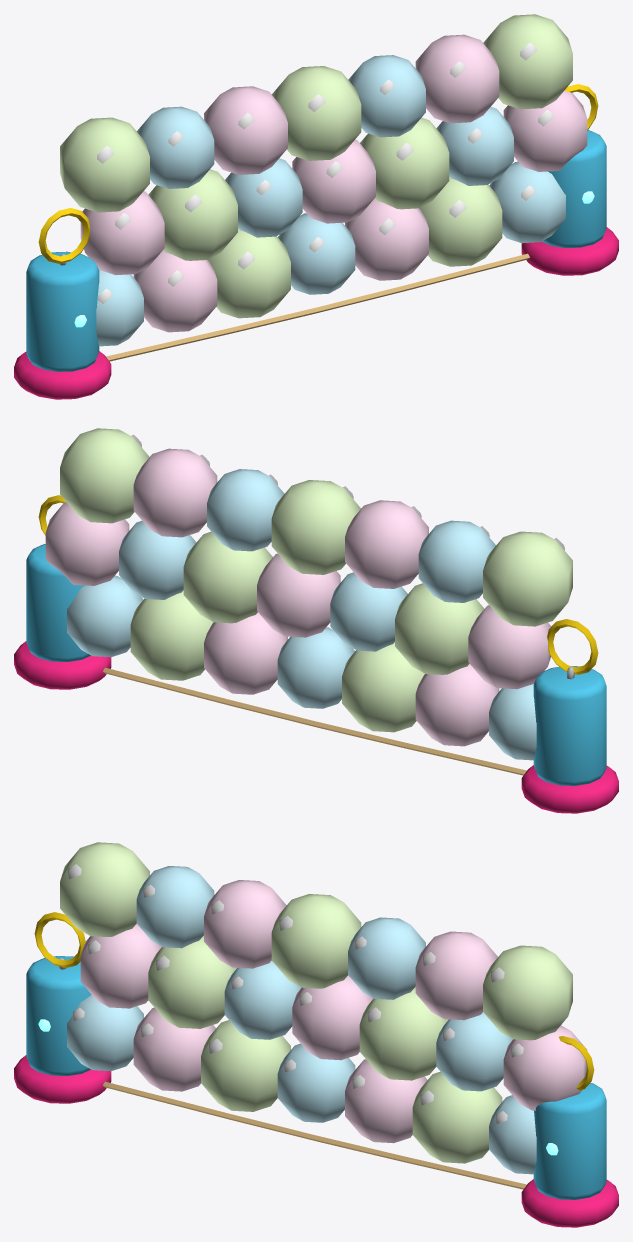
The model's file is Tutorial_BubbleBarrier.fbx.
The picture shows the model from 3 angles, top to bottom: view 1: azimuth 30°, elevation 25°; view 2: azimuth 150°, elevation 25°; view 3: azimuth 330°, elevation 25°; orthographic projection.
Parts seen in each view (by area): view 1: Static, Bubble_14, Bubble_20, Bubble_17, Bubble_19, Bubble_16, Bubble_11, Bubble_08, Bubble_05, Bubble_02, Bubble_01, Bubble_04 (+10 smaller); view 2: Static, Bubble_14, Bubble_20, Bubble_17, Bubble_19, Bubble_16, Bubble_11, Bubble_08, Bubble_05, Bubble_02, Bubble_01, Bubble_04 (+10 smaller); view 3: Static, Bubble_20, Bubble_14, Bubble_17, Bubble_11, Bubble_05, Bubble_02, Bubble_08, Bubble_16, Bubble_19, Bubble_15, Bubble_13 (+10 smaller).
Part boxes in pixels (left/top/right/bottom): Static: left=14, top=84, right=618, bottom=399; Bubble_14: left=60, top=117, right=149, bottom=212; Bubble_20: left=483, top=14, right=572, bottom=109; Bubble_17: left=272, top=66, right=361, bottom=160; Bubble_19: left=415, top=34, right=499, bottom=123; Bubble_16: left=204, top=86, right=287, bottom=174; Bubble_11: left=360, top=117, right=449, bottom=209; Bubble_08: left=148, top=169, right=237, bottom=260; Bubble_05: left=419, top=176, right=502, bottom=266; Bubble_02: left=208, top=228, right=290, bottom=318; Bubble_01: left=133, top=250, right=217, bottom=332; Bubble_04: left=345, top=198, right=428, bottom=280; Static: left=14, top=495, right=618, bottom=813; Bubble_14: left=483, top=531, right=572, bottom=626; Bubble_20: left=60, top=428, right=149, bottom=523; Bubble_17: left=271, top=480, right=360, bottom=574; Bubble_19: left=133, top=448, right=217, bottom=537; Bubble_16: left=345, top=500, right=428, bottom=588; Bubble_11: left=183, top=531, right=272, bottom=623; Bubble_08: left=395, top=583, right=484, bottom=674; Bubble_05: left=130, top=590, right=213, bottom=680; Bubble_02: left=342, top=642, right=424, bottom=732; Bubble_01: left=415, top=664, right=499, bottom=746; Bubble_04: left=204, top=612, right=287, bottom=694; Static: left=14, top=912, right=618, bottom=1227; Bubble_20: left=483, top=945, right=572, bottom=1040; Bubble_14: left=60, top=842, right=149, bottom=936; Bubble_17: left=271, top=894, right=361, bottom=988; Bubble_11: left=359, top=987, right=448, bottom=1080; Bubble_05: left=412, top=1071, right=502, bottom=1163; Bubble_02: left=201, top=1020, right=290, bottom=1111; Bubble_08: left=148, top=935, right=237, bottom=1028; Bubble_16: left=204, top=880, right=286, bottom=968; Bubble_19: left=415, top=931, right=497, bottom=1020; Bubble_15: left=136, top=866, right=214, bottom=948; Bubble_13: left=503, top=1025, right=587, bottom=1110.
Size of the model in its own units: 8.4 by 3.4 by 1.17.
